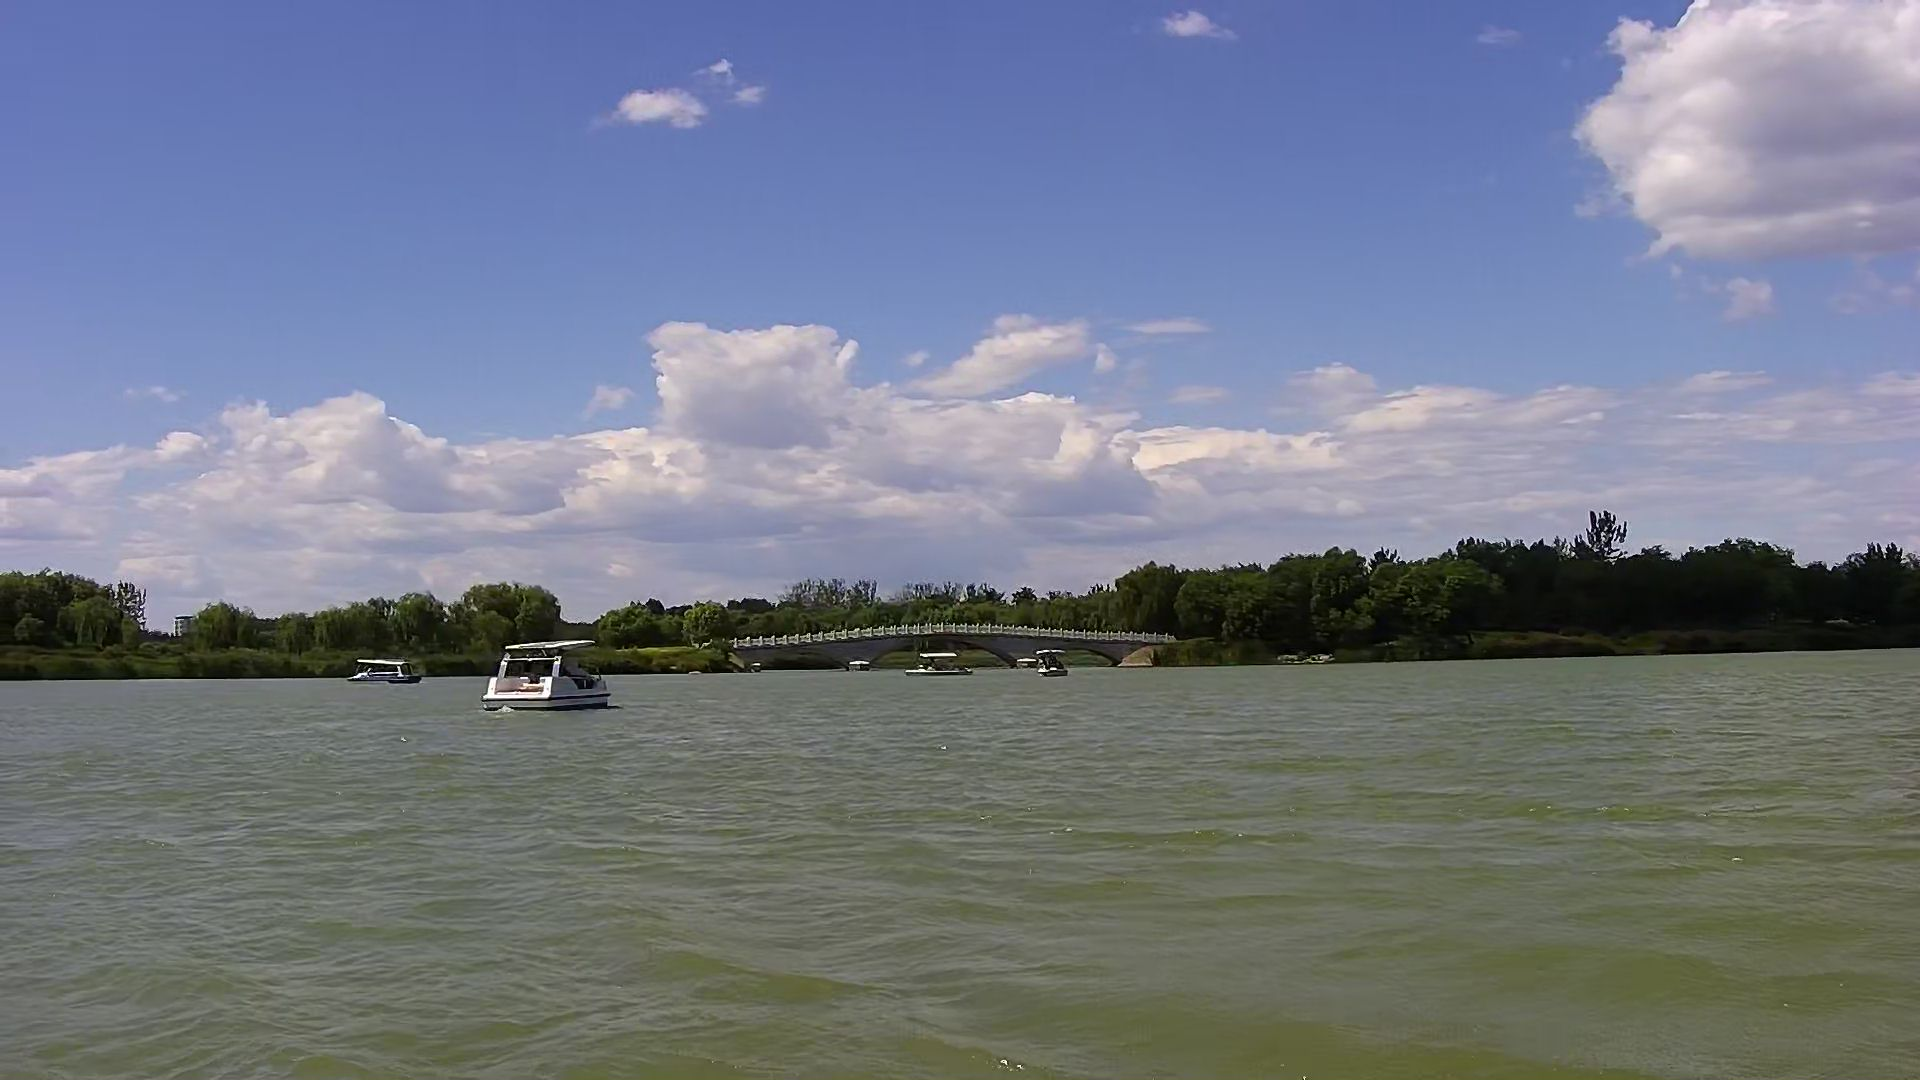boat: (475, 626, 618, 721), (899, 641, 977, 680), (352, 655, 418, 688), (1033, 647, 1079, 686)
bridge: (729, 615, 1179, 671)
